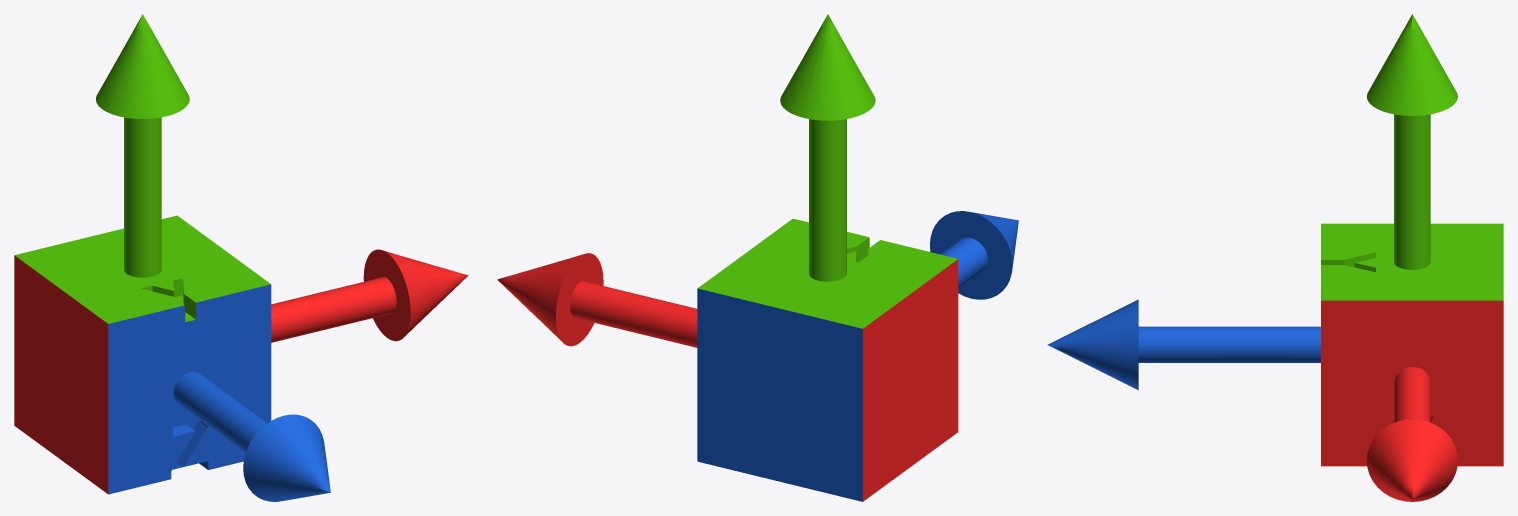
Rendered from axis_gizmo_box.obj.
The picture shows the model from 3 angles, left to right: view 1: azimuth 30°, elevation 25°; view 2: azimuth 150°, elevation 25°; view 3: azimuth 270°, elevation 25°; orthographic projection. The views are drawn at different scales.
Parts seen in each view (by area): view 1: sw2urdf_d5022f7b-2f9d-46ca-a8ff-4da088a96822; view 2: sw2urdf_d5022f7b-2f9d-46ca-a8ff-4da088a96822; view 3: sw2urdf_d5022f7b-2f9d-46ca-a8ff-4da088a96822.
Part boxes in pixels (x1,y1,x2,y2): sw2urdf_d5022f7b-2f9d-46ca-a8ff-4da088a96822: [14, 14, 468, 501]; sw2urdf_d5022f7b-2f9d-46ca-a8ff-4da088a96822: [497, 14, 1018, 501]; sw2urdf_d5022f7b-2f9d-46ca-a8ff-4da088a96822: [1047, 14, 1503, 501].
Size of the model in its own units: 0.125 by 0.125 by 0.125.
